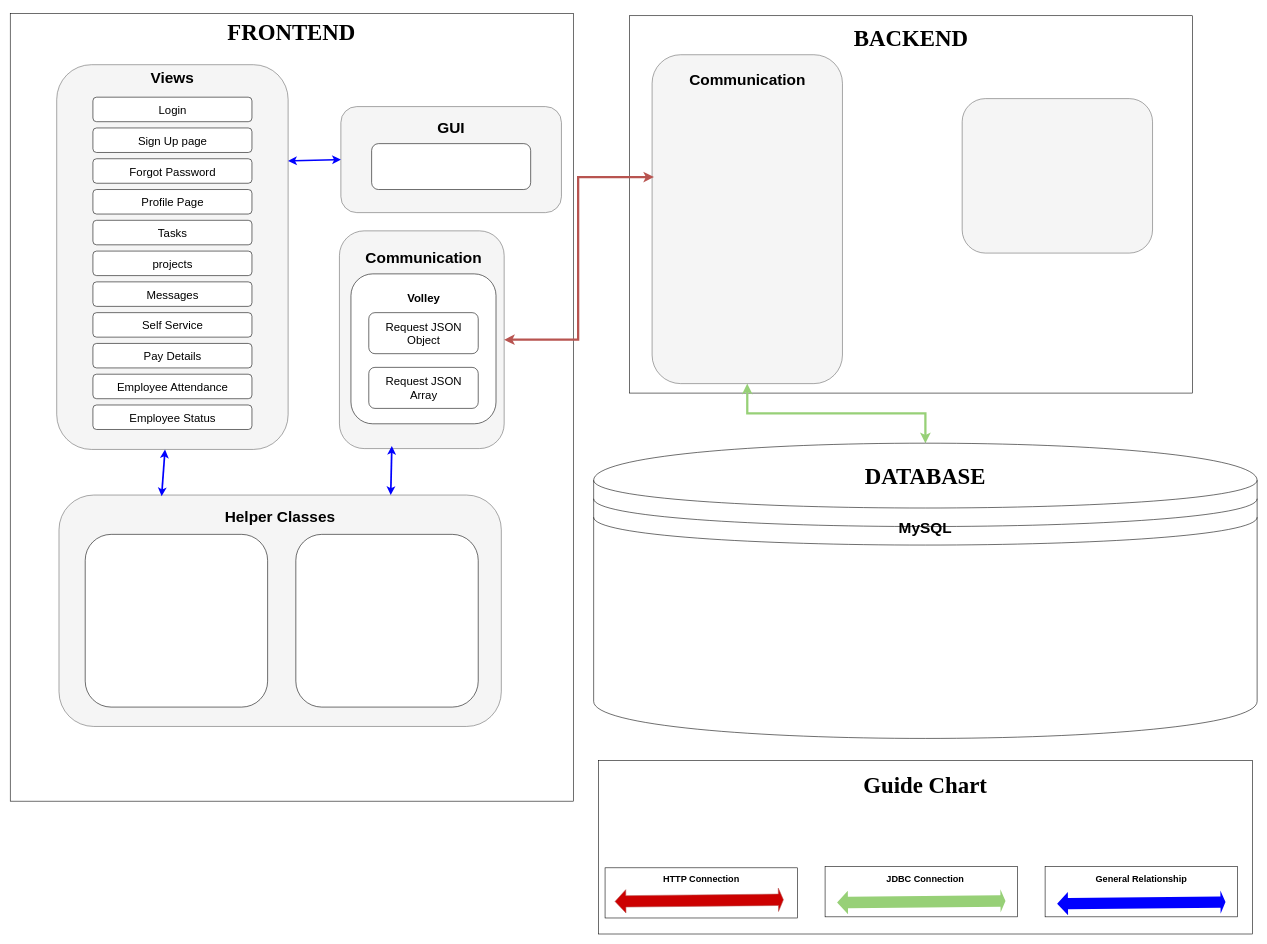
Image size: 1267x944. Some labels were removed from this diagram. Here are the shapes that lost their labels. From the top down, the centre of each, then its label:
At (x=451, y=166): "XML Layout Files".
At (x=1057, y=175): "Controllers".
